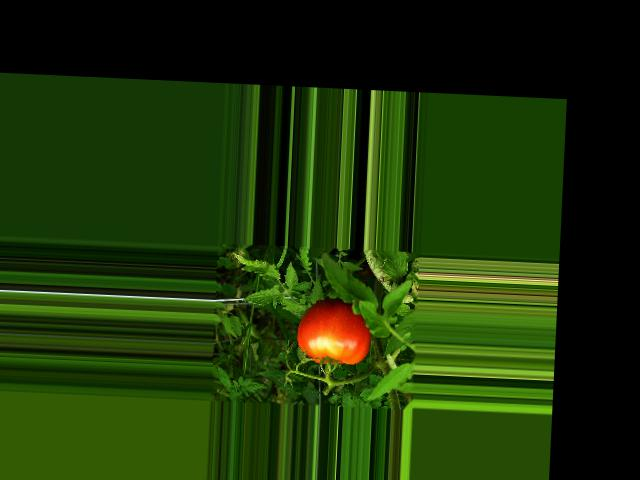tomato: (296, 298, 371, 366)
